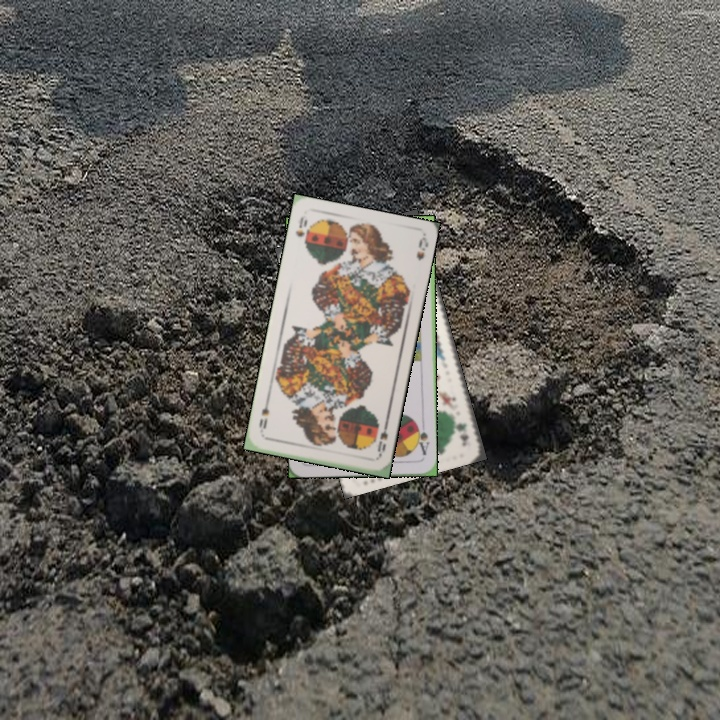GK: (452, 419, 471, 448)
SA: (412, 419, 432, 458)
SO: (373, 419, 390, 460), (292, 212, 310, 239)
